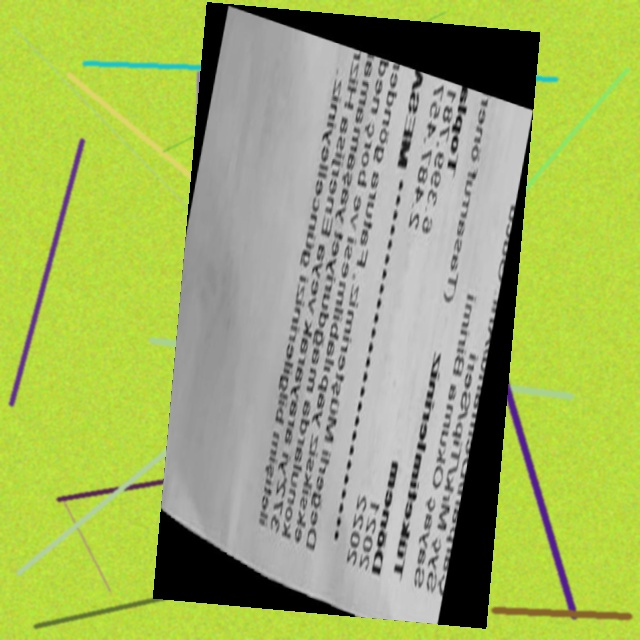electricity-bill: (152, 2, 540, 629)
